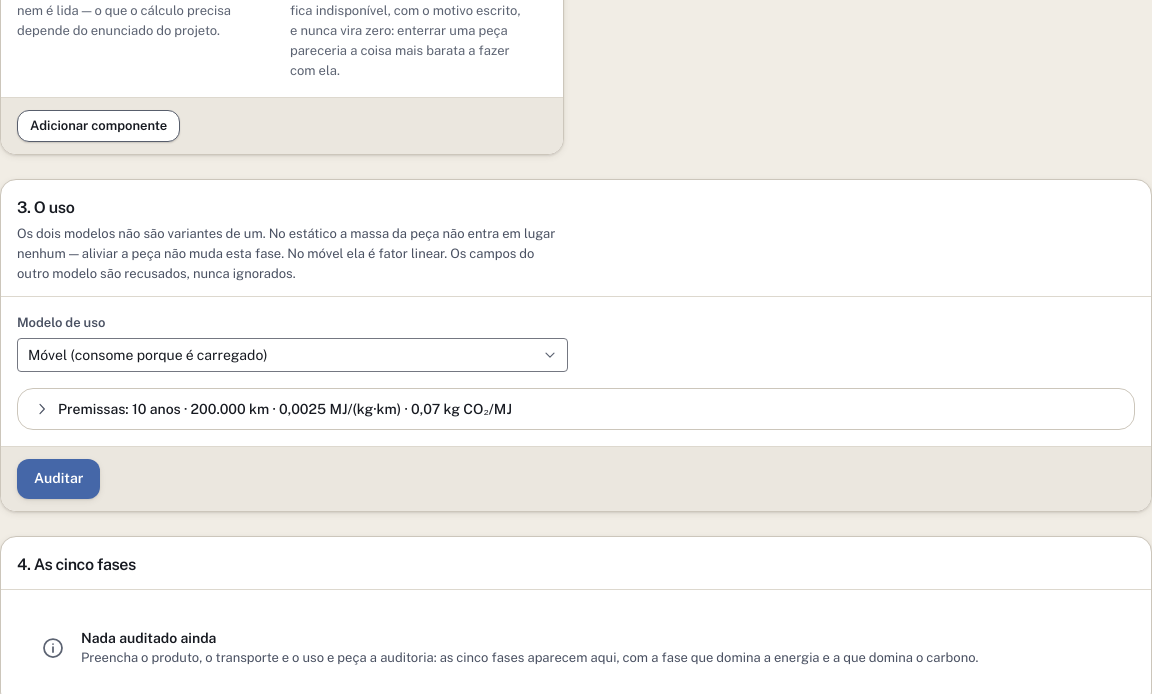
Scenario: Auditoria ambiental › recusa somar quatro das cinco fases
(page scrolled)
Click the button "Auditar" at coordinates (59, 478), box [17, 458, 100, 498]
(page scrolled)
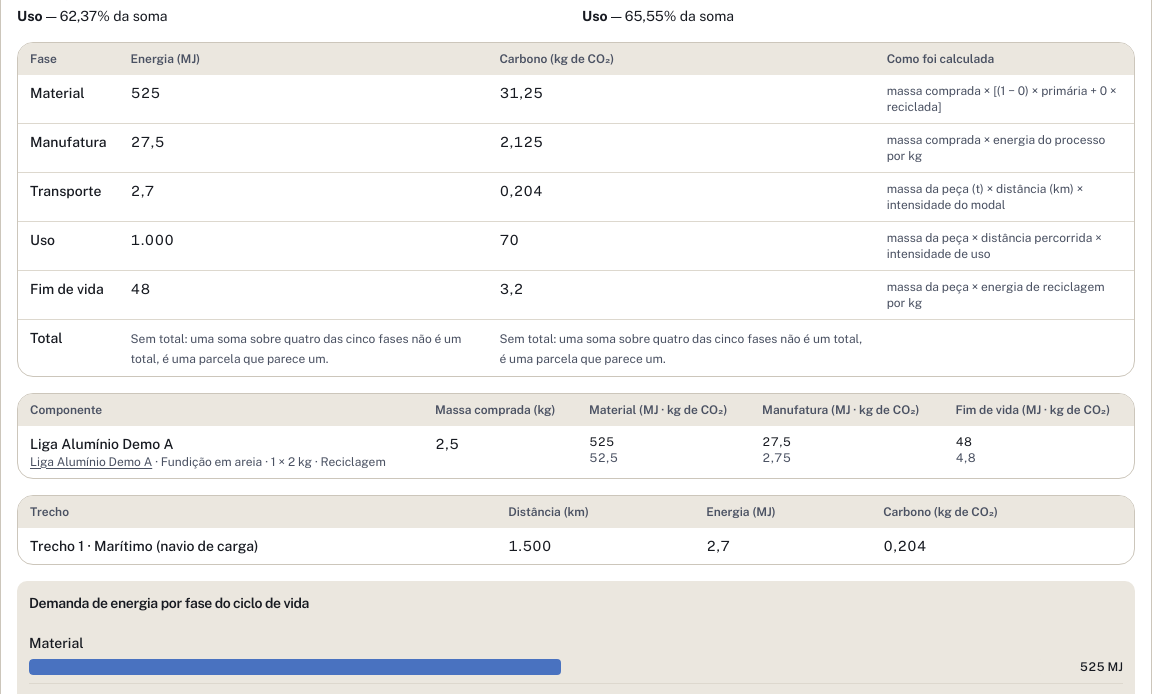
Now the 1st text "não é um total" is shown, box [131, 332, 462, 366]
